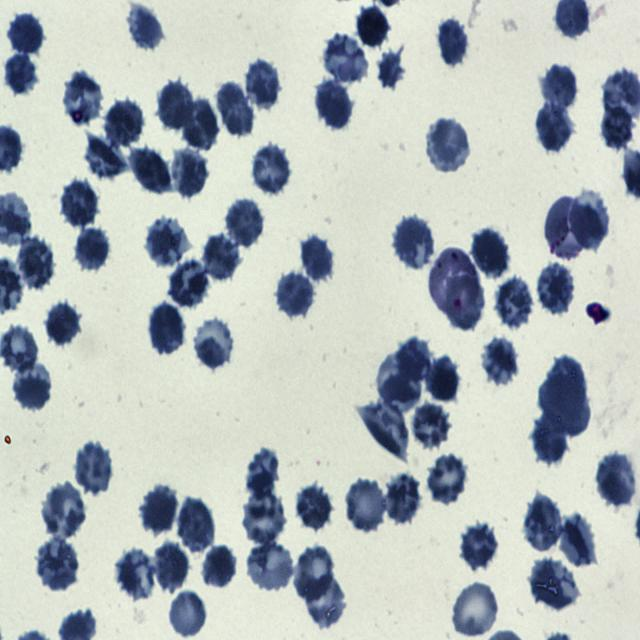red blood cell: (538, 372, 590, 438), (355, 401, 410, 462), (429, 249, 477, 315), (452, 580, 501, 638), (530, 556, 580, 612), (244, 540, 296, 593), (378, 352, 422, 414), (40, 481, 87, 539), (240, 490, 288, 544), (61, 70, 106, 126), (303, 574, 348, 630), (426, 118, 471, 173), (546, 357, 586, 417), (146, 215, 192, 267), (322, 32, 368, 84), (35, 538, 80, 591), (557, 513, 599, 568), (346, 478, 387, 534), (524, 495, 564, 552), (534, 100, 576, 154), (393, 215, 435, 269), (596, 453, 637, 508), (168, 258, 211, 310), (192, 316, 234, 369), (570, 192, 609, 249), (74, 441, 114, 496), (469, 225, 509, 280), (116, 551, 159, 602), (250, 144, 292, 196), (294, 547, 334, 601), (427, 453, 469, 504), (480, 335, 520, 388), (216, 81, 253, 138), (105, 98, 148, 147), (12, 362, 54, 412), (177, 498, 215, 553), (538, 262, 576, 316), (316, 77, 354, 131), (276, 269, 316, 320), (181, 98, 221, 149), (83, 134, 129, 178), (410, 402, 453, 449), (150, 301, 186, 357), (532, 413, 570, 466), (60, 177, 100, 227), (201, 232, 241, 282), (244, 448, 284, 498), (130, 148, 170, 198), (152, 541, 189, 595), (170, 149, 209, 199), (299, 232, 335, 286), (385, 474, 423, 525), (17, 238, 54, 290), (140, 485, 178, 535), (72, 221, 109, 272), (226, 200, 265, 248), (542, 61, 578, 112), (496, 277, 532, 328), (461, 523, 499, 571), (126, 4, 164, 52), (424, 354, 460, 404), (170, 590, 207, 638), (246, 58, 280, 110), (296, 481, 332, 530), (395, 337, 431, 385), (158, 80, 192, 130), (437, 16, 469, 69), (46, 301, 82, 348), (8, 11, 44, 58), (354, 4, 390, 51), (600, 104, 635, 152), (204, 544, 237, 589), (6, 50, 38, 94), (377, 45, 406, 91)
ring: (544, 197, 590, 260), (442, 274, 485, 333)
